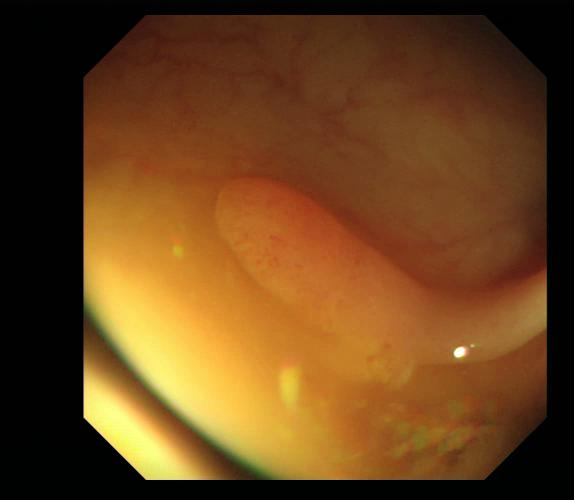polyp: (214, 173, 546, 371)
